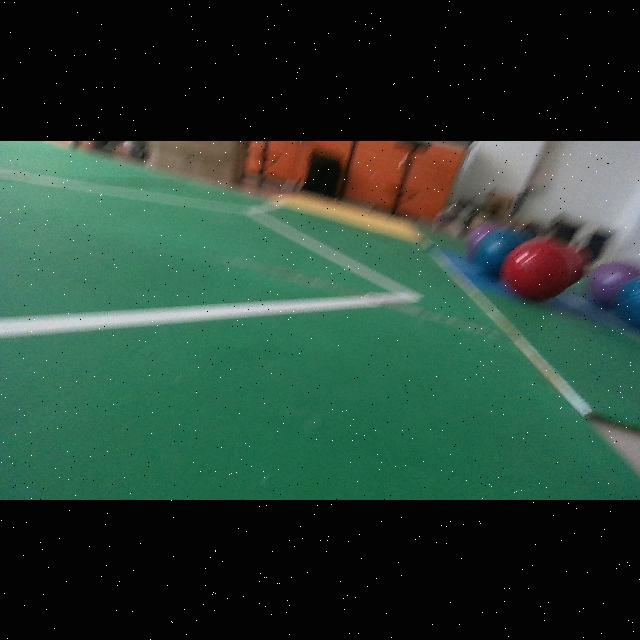B: (474, 227, 526, 274), (615, 275, 640, 329)
P: (588, 261, 640, 304)
R: (499, 237, 584, 298)
